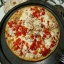pizza: (6, 6, 60, 58)
